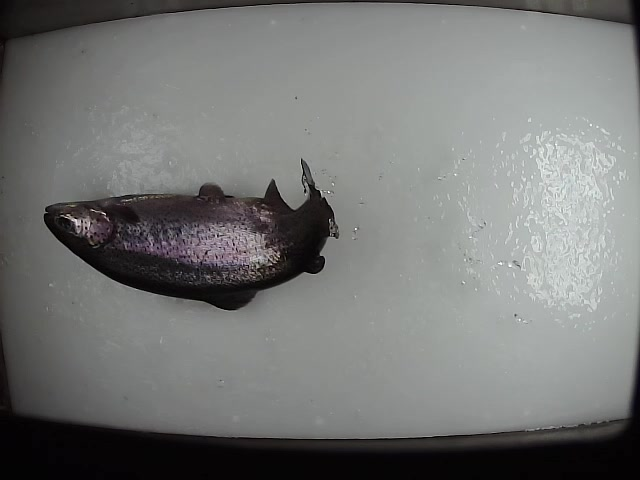fish: (41, 156, 342, 315)
